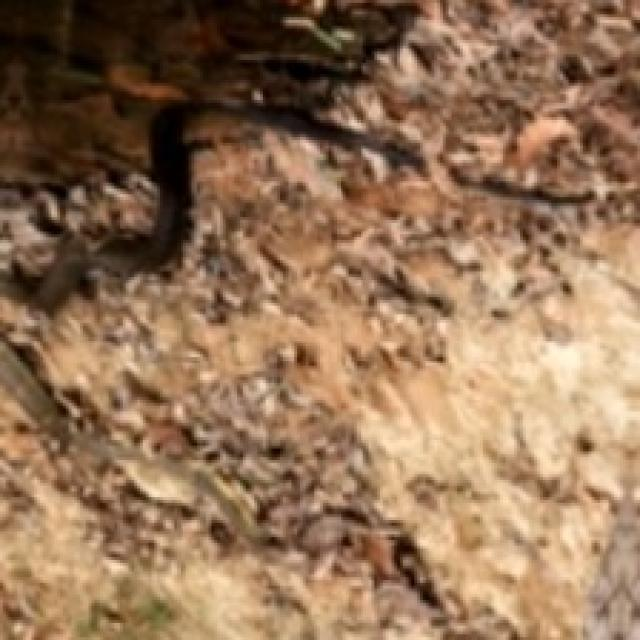king cobra: (0, 108, 421, 316), (0, 338, 136, 463), (461, 181, 562, 203)
